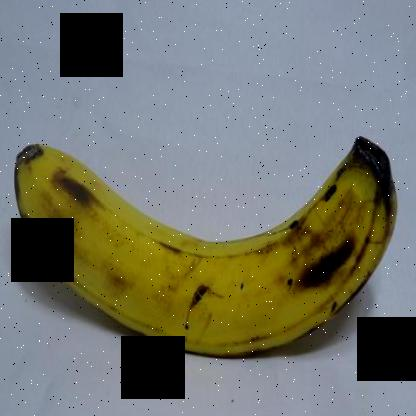ripe: (5, 124, 408, 370)
